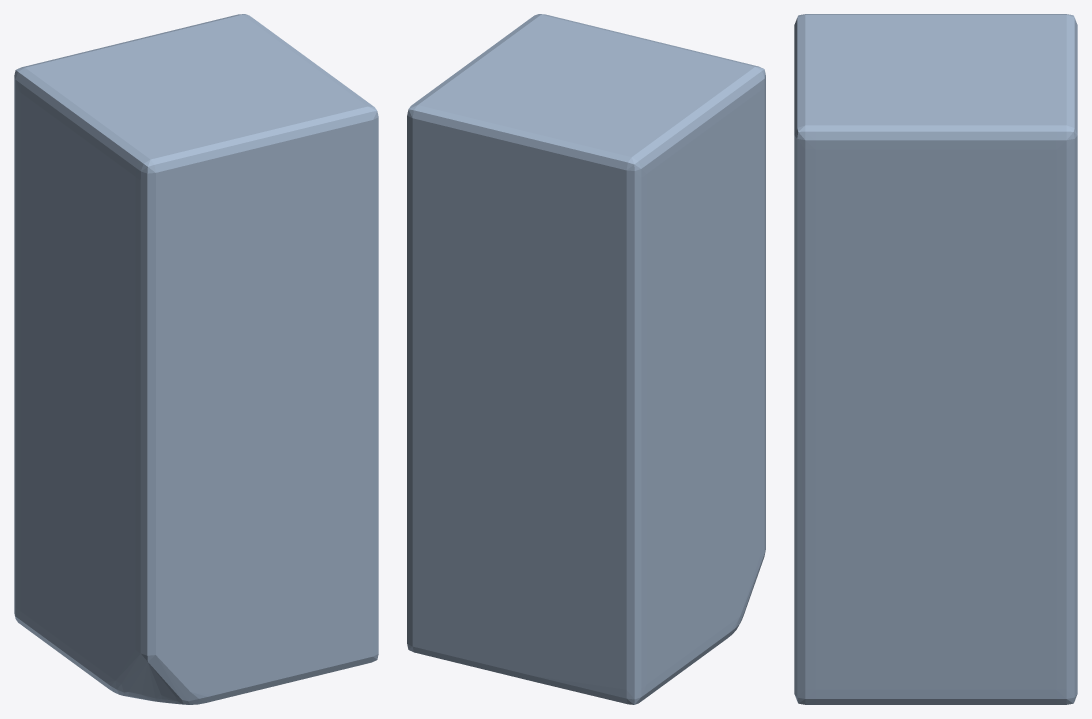
The model's file is left_hip_roll_link_part_6.obj.
3 views of the same model, side by side, from view 1: azimuth 30°, elevation 25°; view 2: azimuth 150°, elevation 25°; view 3: azimuth 270°, elevation 25° (orthographic). The views are drawn at different scales.
Size of the model in its own units: 0.0336 by 0.0752 by 0.0334.
